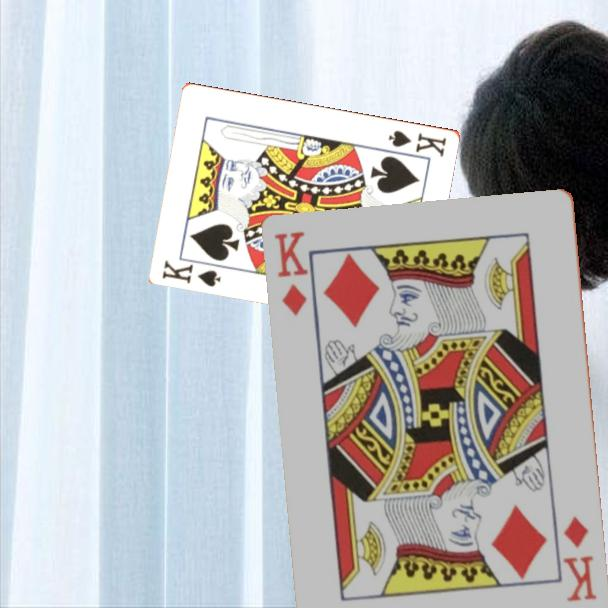d13: (560, 514, 600, 605), (271, 228, 311, 319)
s13: (385, 126, 450, 159), (159, 256, 224, 289)
